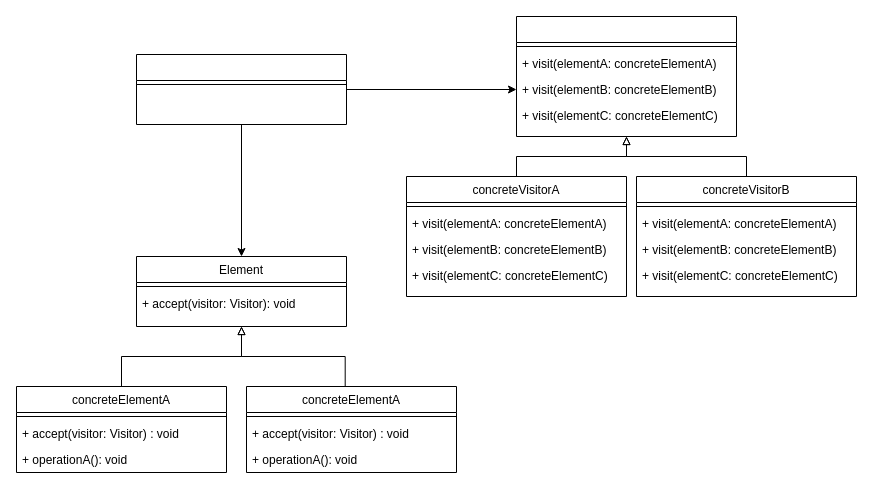
Some shapes in this 873 by 489 pixel diagram are drawn without their labels. Each missing label, with the box of its shape:
client: (136, 54, 346, 124)
Visitor: (516, 16, 736, 136)
